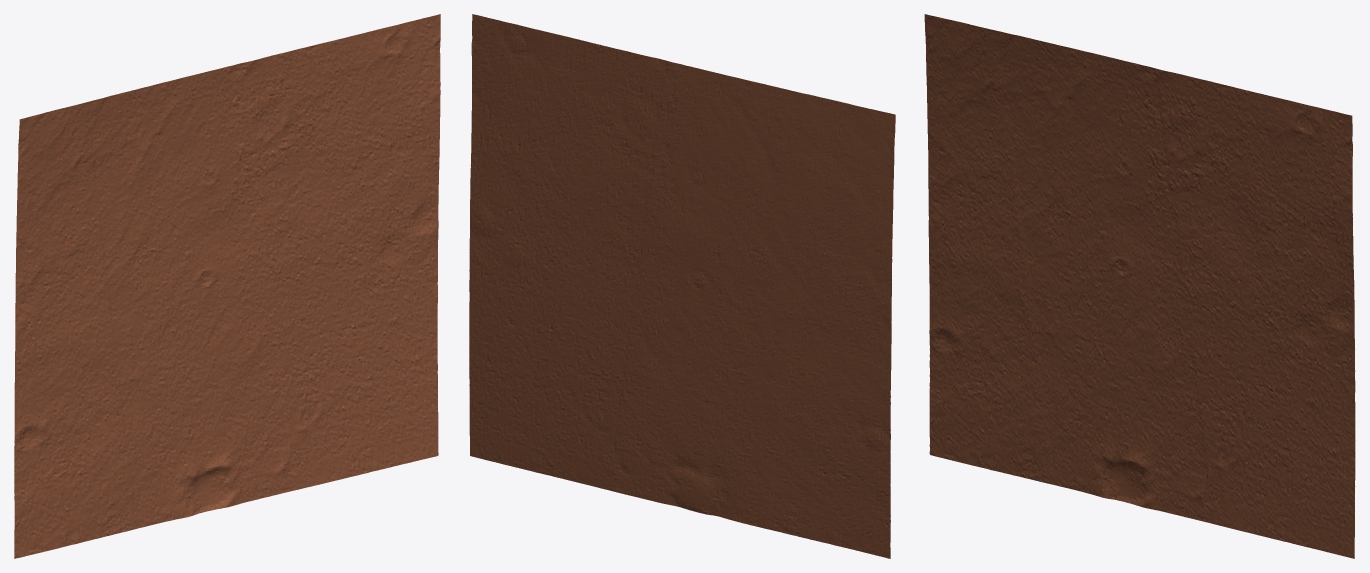
Rendered from terrain.obj.
3 renders of one model, left to right at view 1: azimuth 30°, elevation 25°; view 2: azimuth 150°, elevation 25°; view 3: azimuth 330°, elevation 25°, orthographic.
Visible parts, largest first — view 1: terrain; view 2: terrain; view 3: terrain.
Boxes of the visible parts, x1,y1,x2,y2 form: terrain: (14, 14, 440, 558); terrain: (469, 14, 895, 558); terrain: (924, 14, 1355, 558).
Size of the model in its own units: 1494 by 1494 by 40.55.
1 material, 1 textured.
